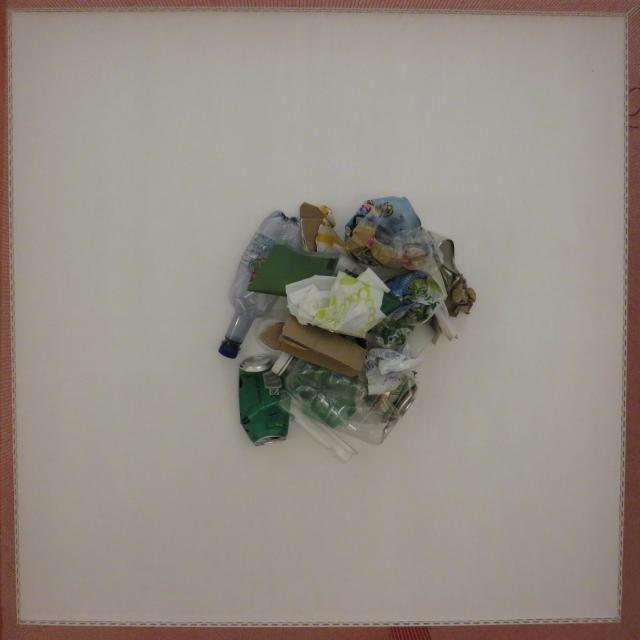cardboard: (260, 315, 366, 376), (300, 203, 346, 253), (432, 269, 459, 345), (445, 274, 476, 317)
hard_plastic: (219, 211, 303, 358), (272, 353, 399, 444), (280, 393, 357, 462), (255, 309, 288, 354), (406, 321, 435, 357)
metal: (239, 355, 290, 445), (345, 196, 421, 240), (366, 374, 417, 419), (428, 231, 460, 292)
soft_plastic: (286, 268, 402, 338), (345, 203, 442, 273), (366, 271, 444, 349), (247, 243, 339, 296), (286, 361, 357, 427), (365, 348, 422, 395), (334, 254, 366, 276)
